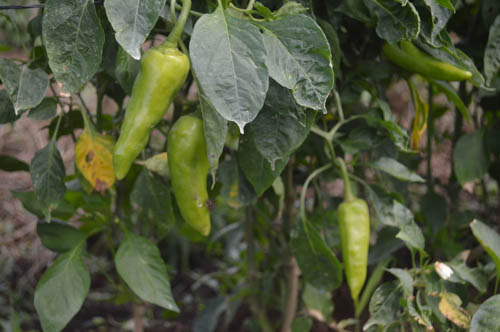ChiliPepper: (109, 50, 188, 187), (167, 115, 213, 233), (380, 36, 471, 84), (337, 200, 370, 298)
